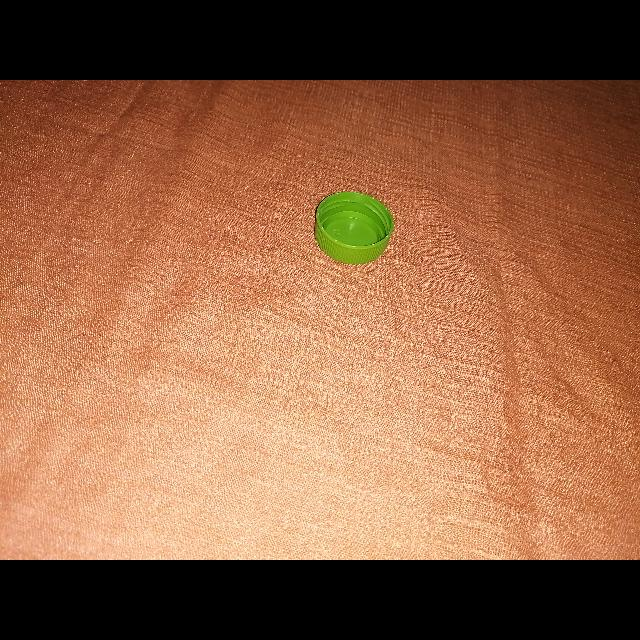plastic_bottle_cap: (314, 190, 394, 266)
